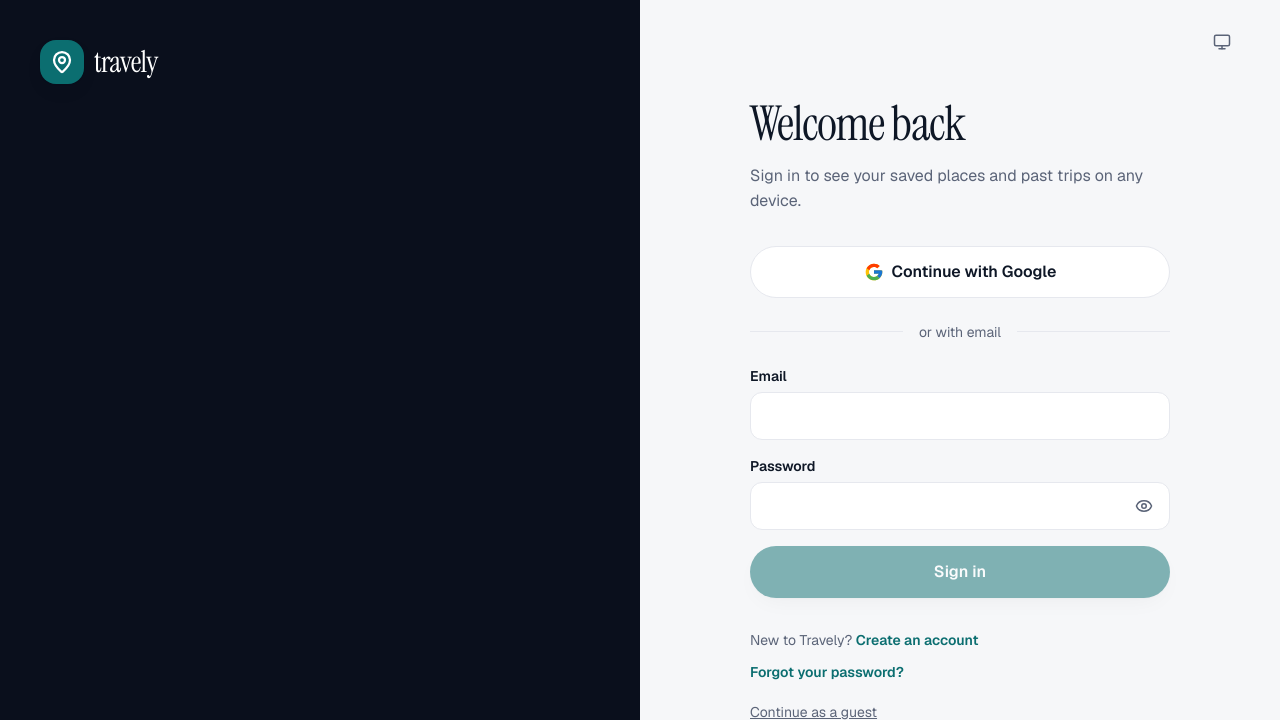
Test: AuthPage › shows what went wrong and stays put
Step 1. Type "ada@example.com" into the field labelled "Email" → (960, 416), box [750,392,1170,440]
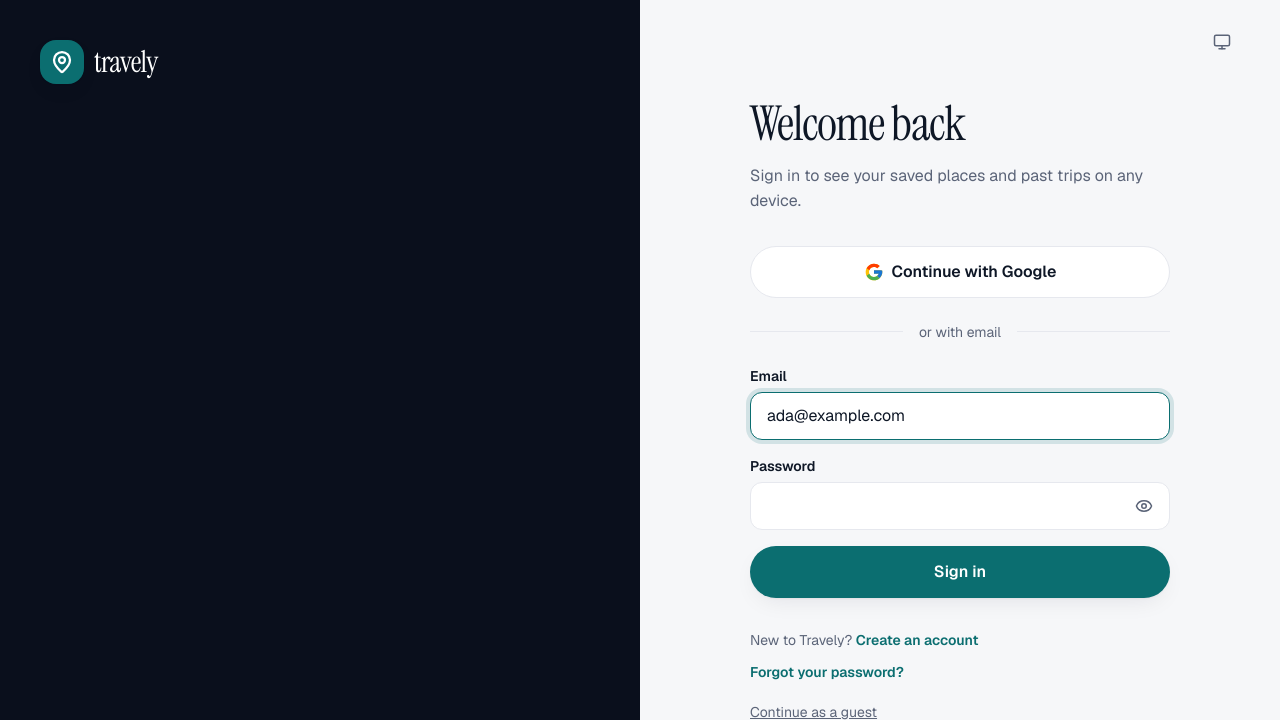
Step 2. Type "wrong" into the password field labelled "Password" → (960, 506), box [750,482,1170,530]
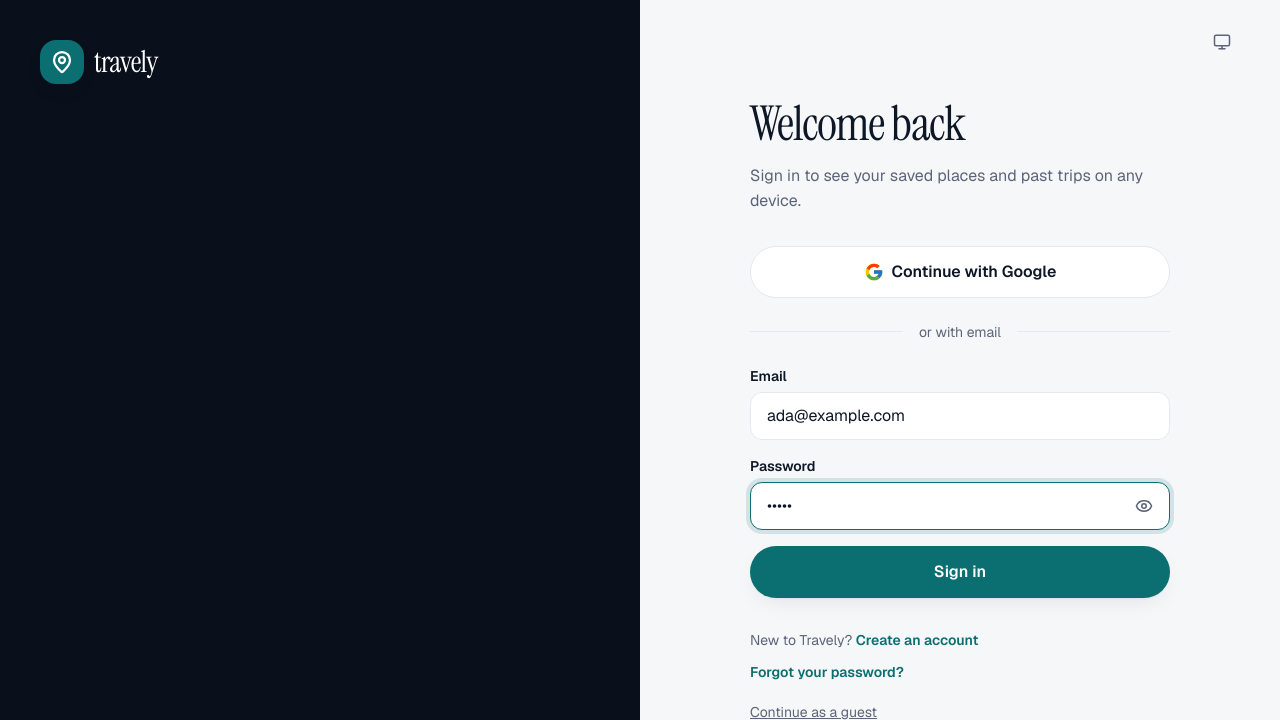
Step 3. Click the button "Sign in" → (960, 572), box [750,546,1170,598]
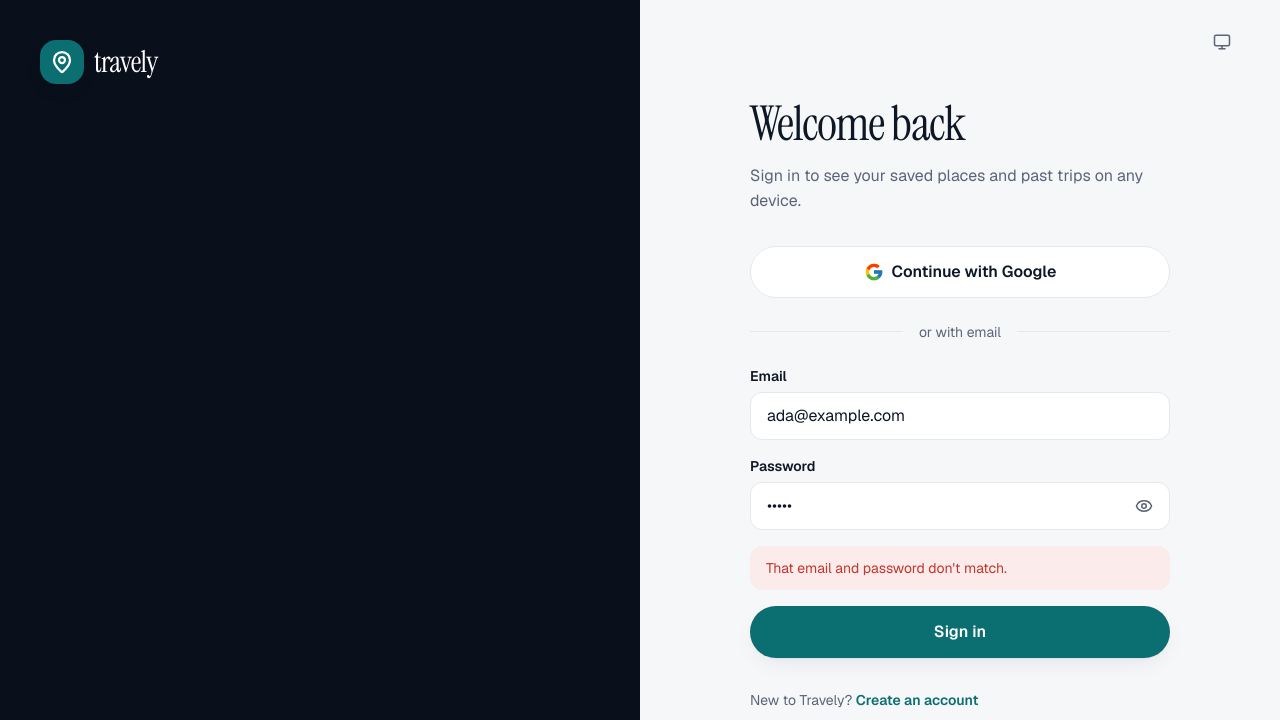
Expected: the message shows "don't match", [766,559,1007,577]
